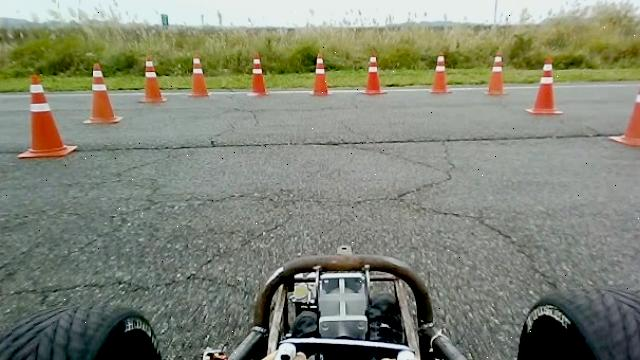red cone: (16, 73, 77, 158), (81, 62, 122, 124), (608, 70, 640, 146), (524, 56, 564, 114), (137, 54, 167, 103), (360, 51, 388, 94), (484, 51, 509, 95), (246, 52, 269, 96), (186, 55, 210, 96), (310, 52, 332, 96), (429, 51, 452, 93)
